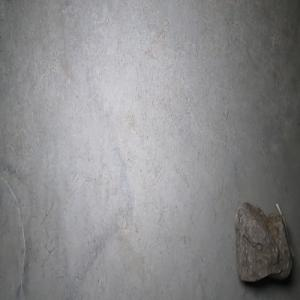Rock: (234, 202, 295, 282)
